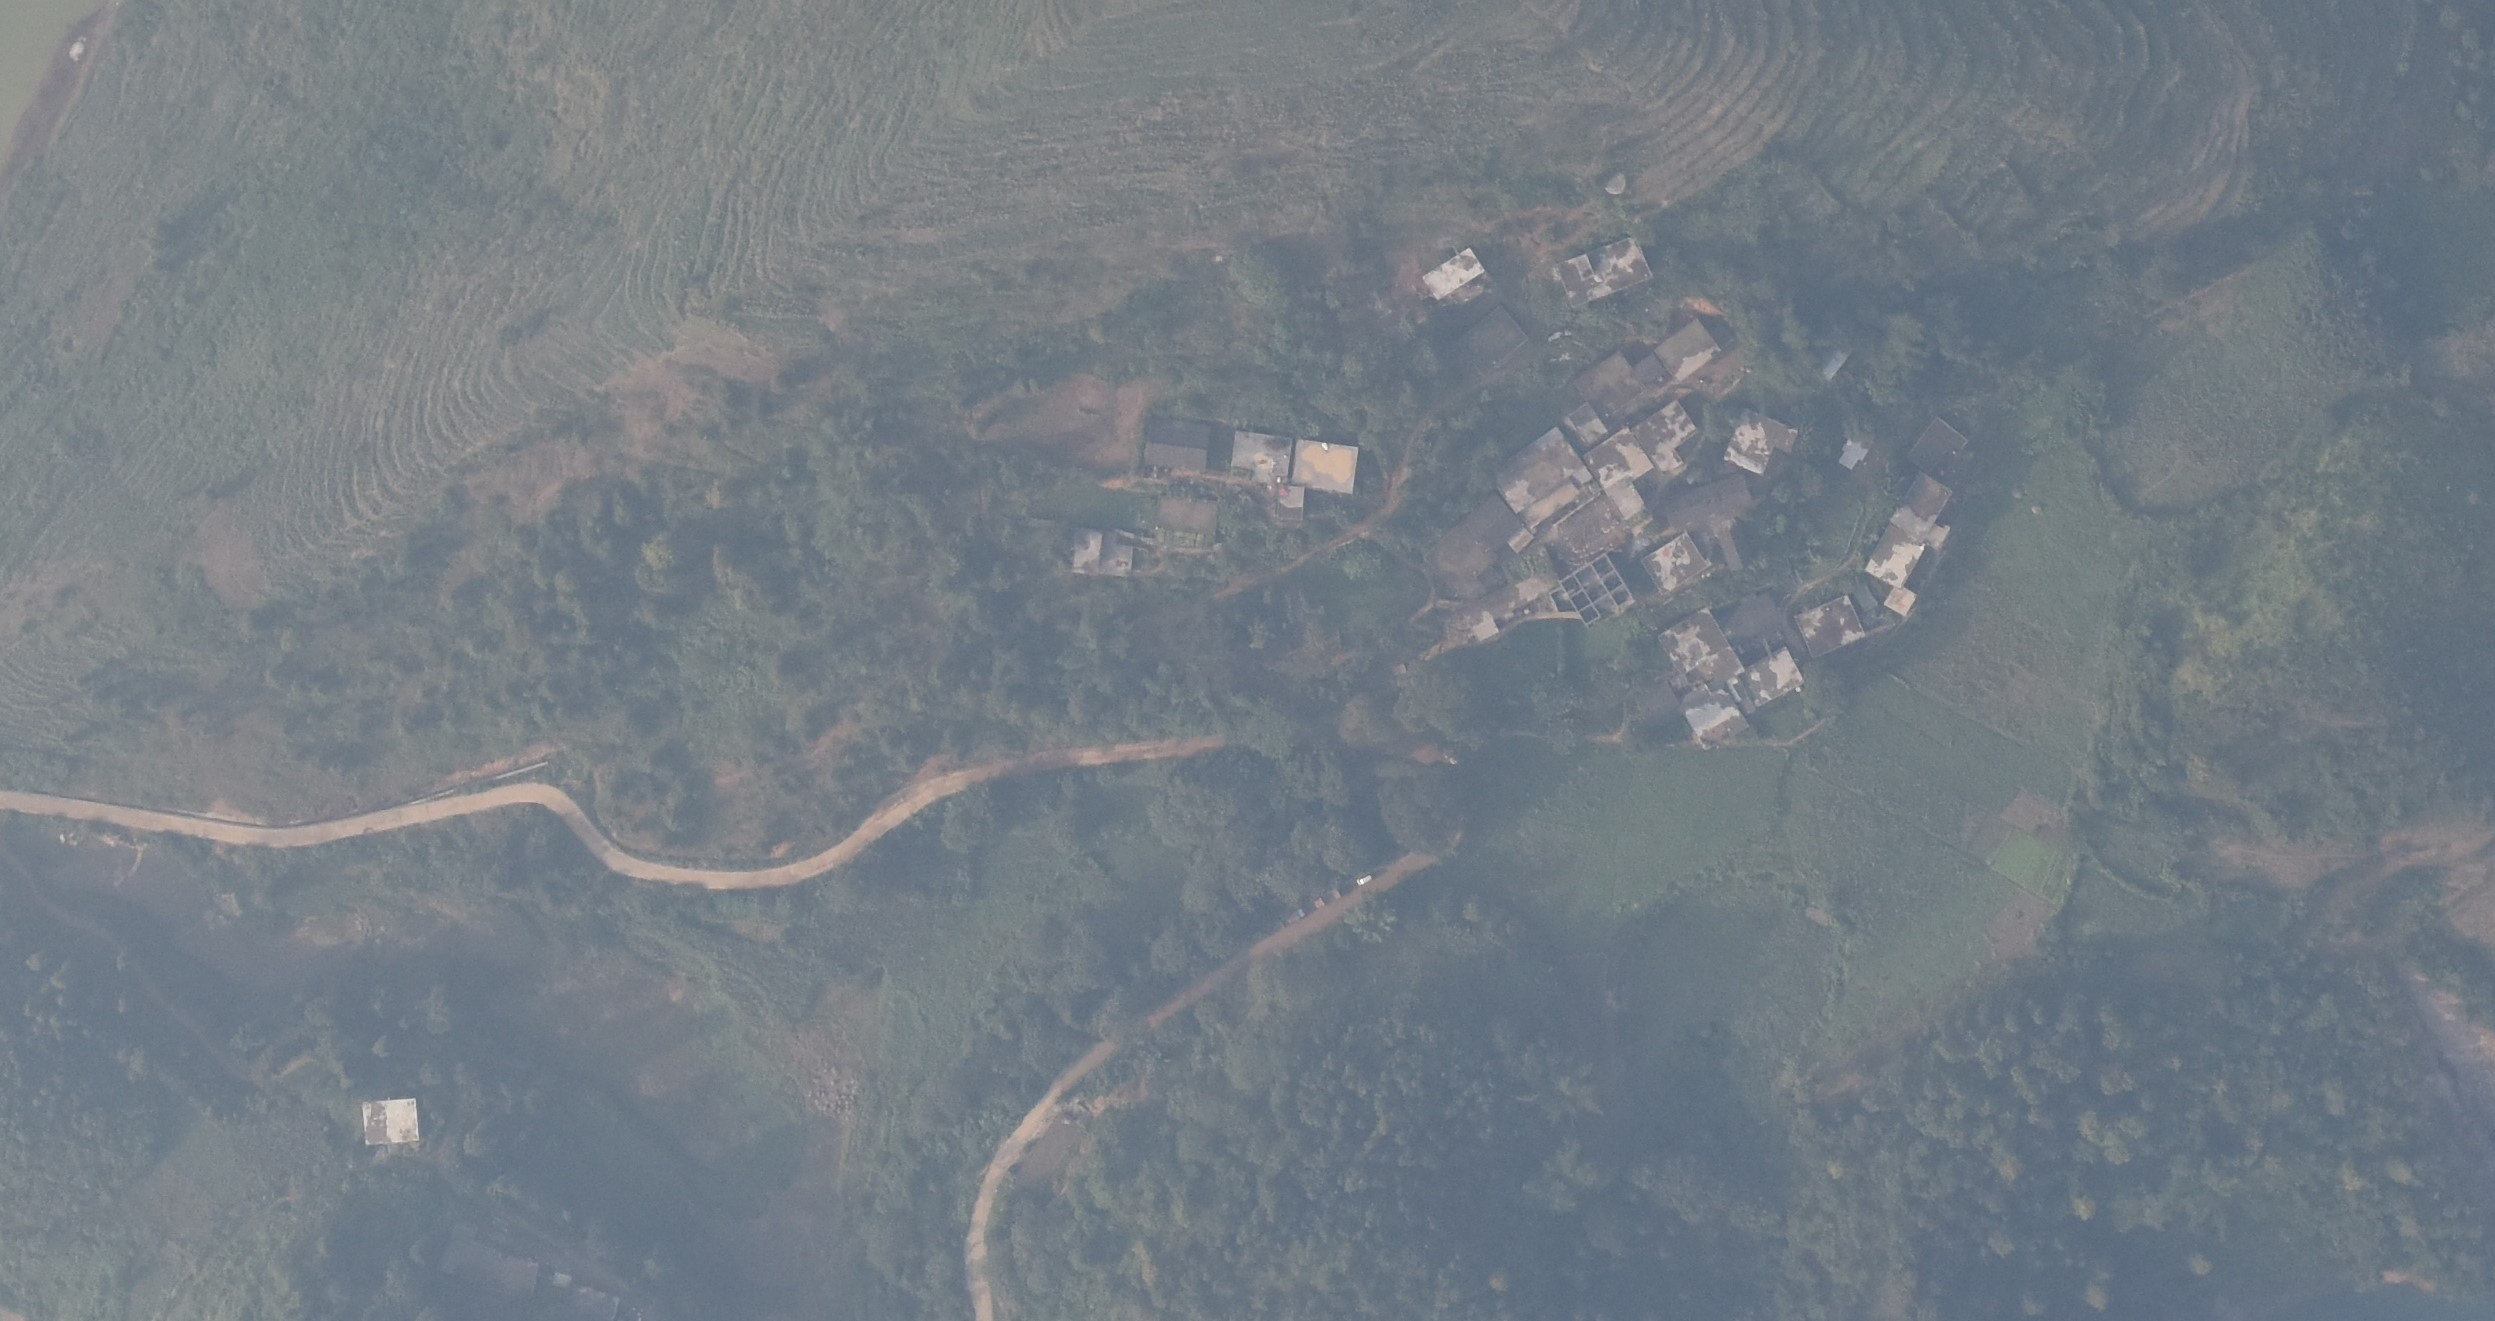building: (1418, 496, 1527, 587), (1488, 425, 1587, 516), (1654, 605, 1749, 692), (1580, 423, 1657, 520), (1549, 237, 1653, 307), (1664, 680, 1750, 753), (1558, 551, 1635, 632), (1716, 404, 1800, 475), (1727, 643, 1804, 719), (1630, 395, 1702, 473), (1450, 304, 1529, 375), (1787, 593, 1868, 657), (1889, 468, 1957, 544), (1638, 528, 1712, 596), (1572, 350, 1647, 415), (1861, 520, 1930, 589), (1653, 316, 1724, 382), (1148, 494, 1225, 551), (1906, 414, 1970, 481), (1144, 414, 1213, 476), (1288, 439, 1358, 498), (1229, 427, 1294, 489), (1421, 246, 1485, 304), (356, 1095, 420, 1144), (1561, 403, 1610, 451), (1094, 526, 1135, 580), (1629, 353, 1674, 400), (1069, 524, 1105, 576), (1882, 578, 1919, 619), (1272, 484, 1308, 522), (1471, 619, 1499, 642)
vehicle: (1311, 890, 1343, 911), (1280, 908, 1308, 927), (1355, 874, 1375, 887)
well: (1602, 166, 1629, 195)
